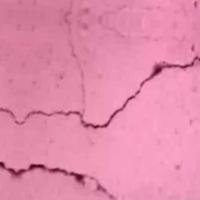crack: (1, 63, 184, 199)
